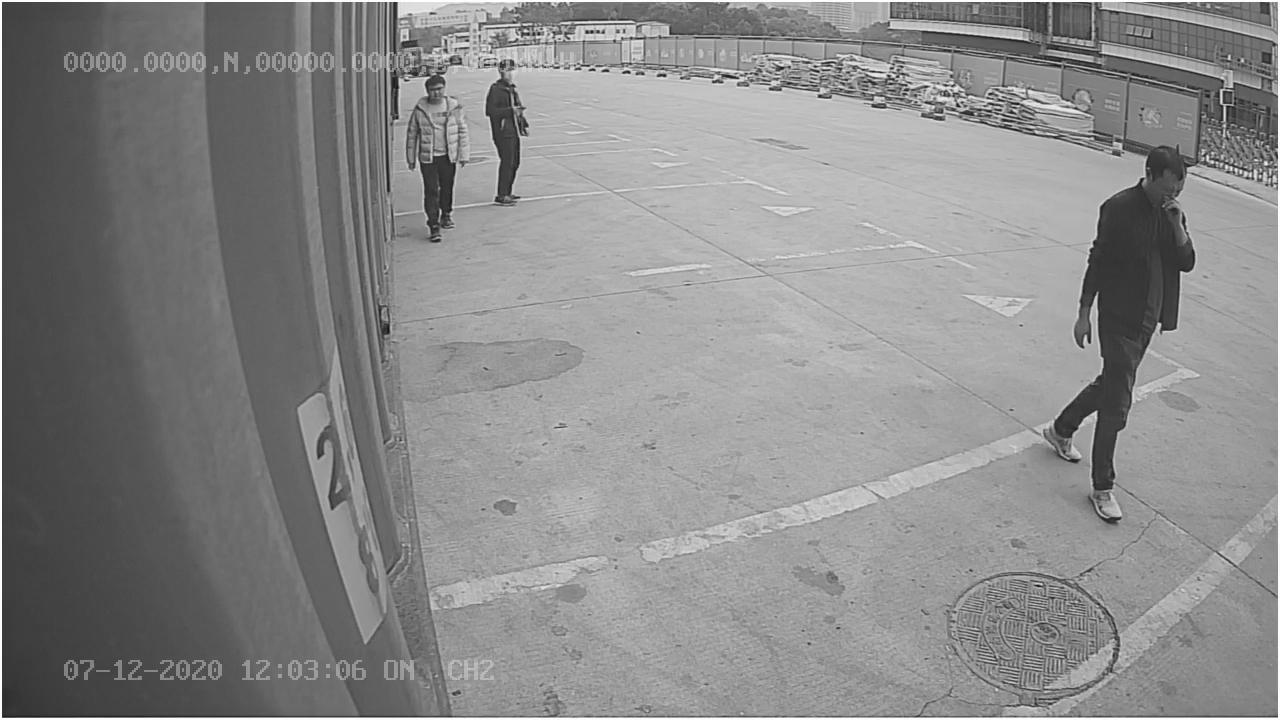person: (1037, 135, 1193, 523)
